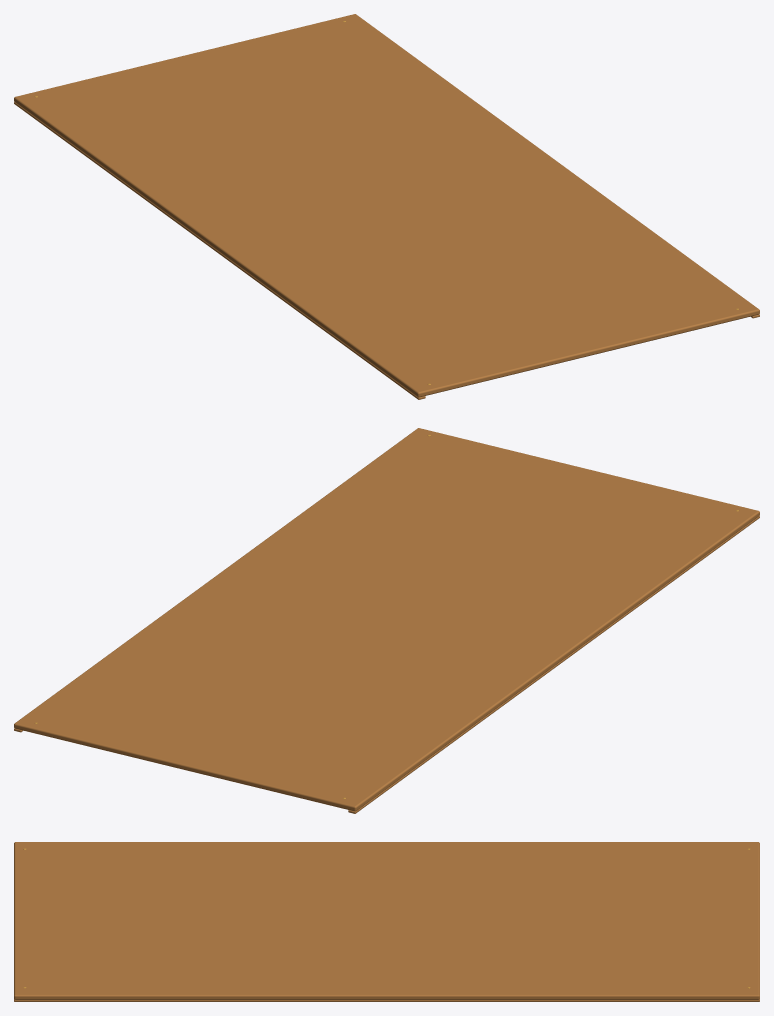
File: lower-board-stable.glb
3 views of the same model, one above another, from view 1: azimuth 30°, elevation 25°; view 2: azimuth 150°, elevation 25°; view 3: azimuth 270°, elevation 25° (orthographic). The views are drawn at different scales.
Parts seen in each view (by area): view 1: wood; view 2: wood; view 3: wood.
Boxes of the visible parts, left/top/right/bottom form: wood: left=14, top=14, right=759, bottom=399; wood: left=14, top=428, right=759, bottom=813; wood: left=14, top=842, right=759, bottom=1001.
Size of the model in its own units: 10 by 0.221 by 20.48.
